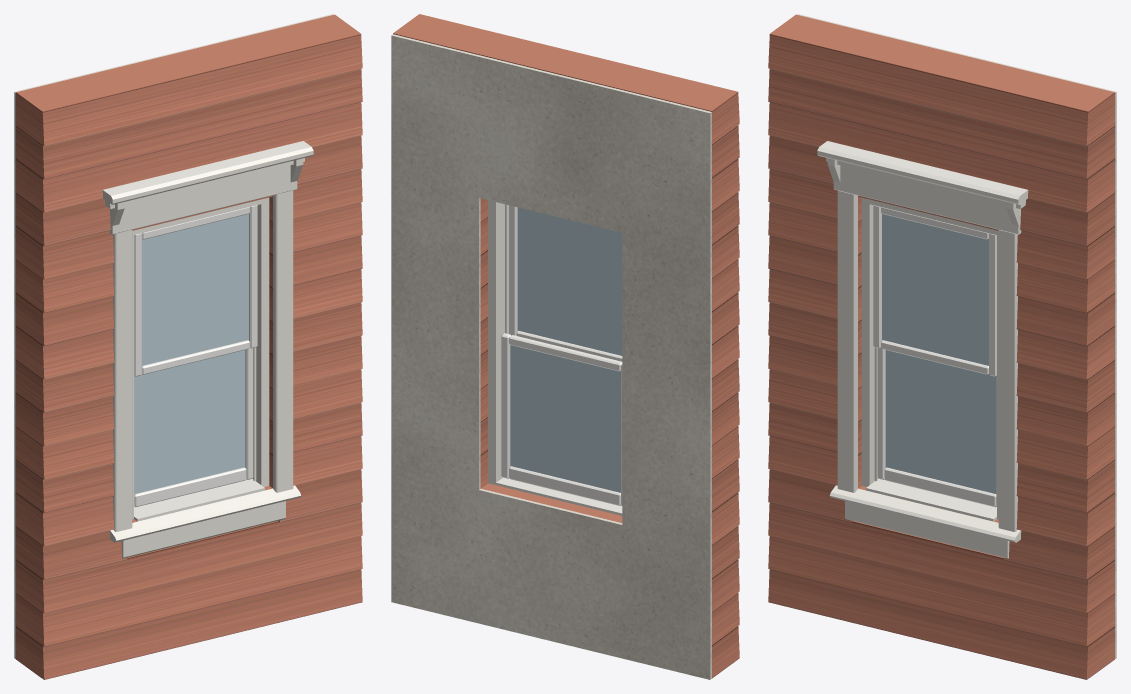
Rendered from f_u_win_e.glb.
3 renders of one model, left to right at view 1: azimuth 30°, elevation 25°; view 2: azimuth 150°, elevation 25°; view 3: azimuth 330°, elevation 25°, orthographic.
Visible parts, largest first — view 1: f_u_win_e_siding_e, f_u_win_e_trim, f_u_win_e_glass, f_u_win_e_sash, f_u_win_e_frame, f_u_win_e_plaster; view 2: f_u_win_e_plaster, f_u_win_e_siding_e, f_u_win_e_glass, f_u_win_e_sash, f_u_win_e_frame, f_u_win_e_trim; view 3: f_u_win_e_siding_e, f_u_win_e_trim, f_u_win_e_glass, f_u_win_e_sash, f_u_win_e_frame, f_u_win_e_plaster.
Boxes of the visible parts, box(x1,y1,x2,y2) form: f_u_win_e_siding_e: box(16, 14, 362, 679); f_u_win_e_trim: box(102, 141, 313, 558); f_u_win_e_glass: box(134, 214, 248, 493); f_u_win_e_sash: box(134, 205, 257, 507); f_u_win_e_frame: box(132, 197, 269, 519); f_u_win_e_plaster: box(14, 14, 333, 658); f_u_win_e_plaster: box(391, 34, 711, 679); f_u_win_e_siding_e: box(393, 14, 739, 678); f_u_win_e_glass: box(510, 207, 622, 492); f_u_win_e_sash: box(501, 205, 622, 505); f_u_win_e_frame: box(488, 200, 508, 484); f_u_win_e_trim: box(496, 477, 622, 515); f_u_win_e_siding_e: box(768, 14, 1114, 679); f_u_win_e_trim: box(817, 141, 1028, 558); f_u_win_e_glass: box(882, 214, 996, 493); f_u_win_e_sash: box(873, 205, 996, 507); f_u_win_e_frame: box(861, 197, 998, 519); f_u_win_e_plaster: box(797, 14, 1116, 658).
Size of the model in its own units: 2 by 3.4 by 0.43.
6 materials, 2 textured.
